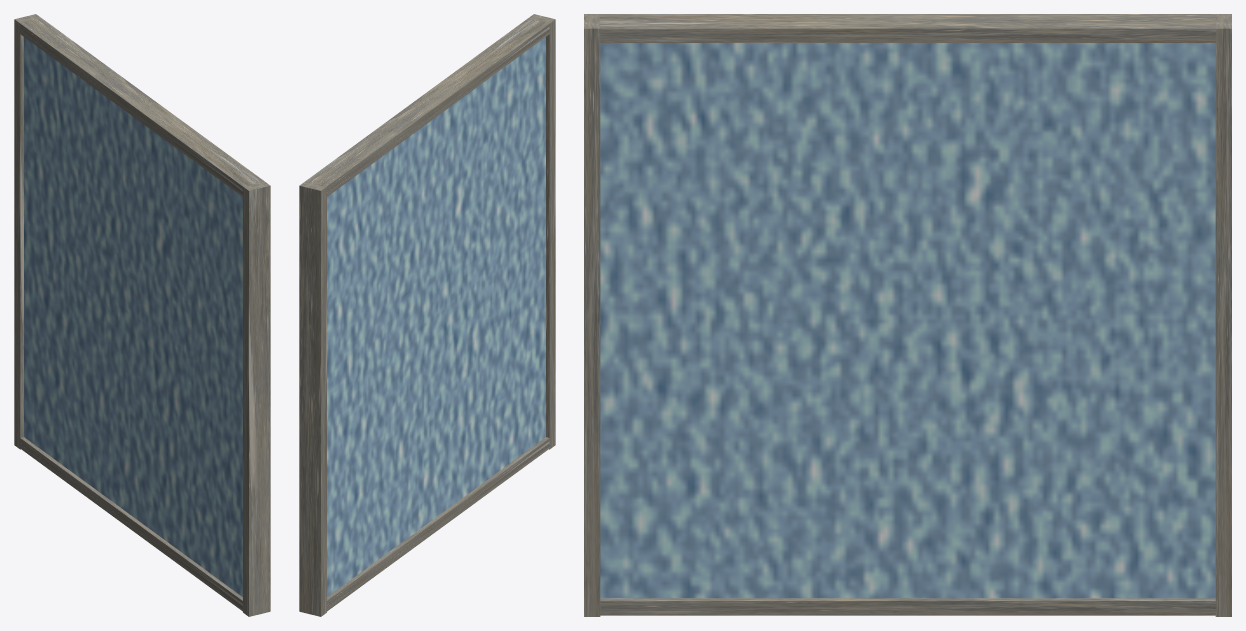
File: window_glass.glb
3 renders of one model, left to right at view 1: azimuth 30°, elevation 25°; view 2: azimuth 150°, elevation 25°; view 3: azimuth 270°, elevation 25°, orthographic. The views are drawn at different scales.
Parts seen in each view (by area): view 1: Cube, Cube.003; view 2: Cube, Cube.003; view 3: Cube, Cube.003.
Part boxes in pixels (x1,y1,x2,y2): Cube: (24,37,242,596); Cube.003: (14,14,270,616); Cube: (327,37,545,596); Cube.003: (299,14,555,616); Cube: (600,43,1215,598); Cube.003: (584,14,1231,616).
Bounding box in the file's own units: 0.1206 × 2.27 × 2.27.
Materials: 5 (5 with a texture image).
